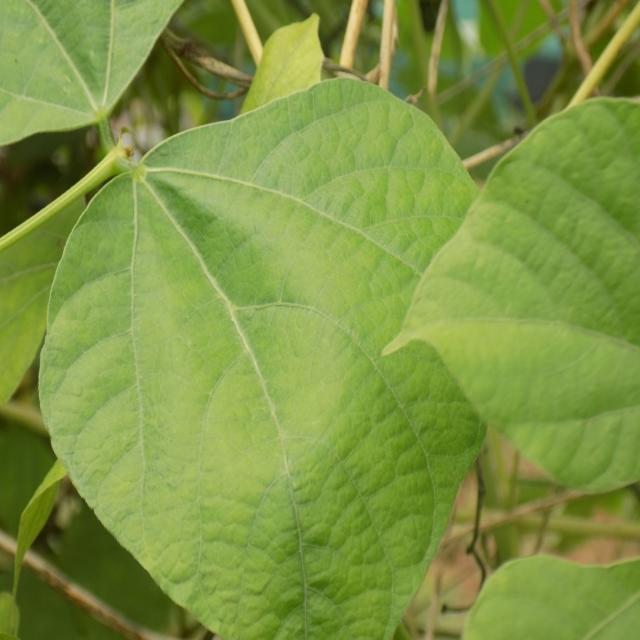Dolicos bean_healthy: (40, 76, 495, 640), (392, 95, 638, 495)
